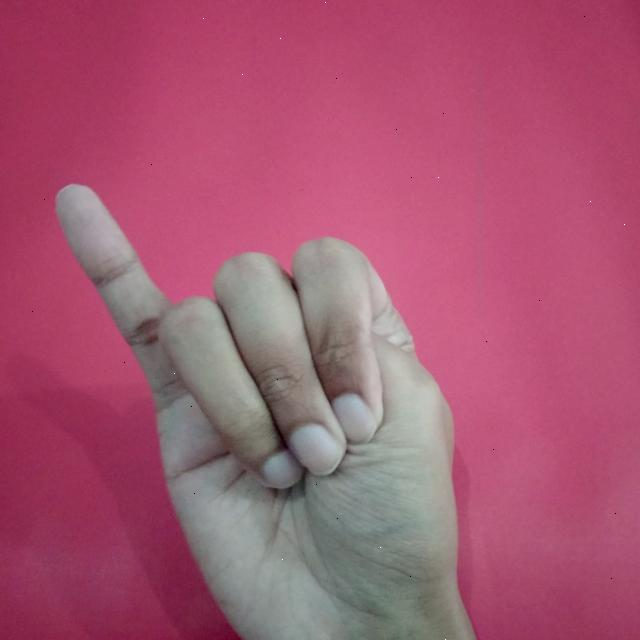I: (50, 180, 491, 640)
